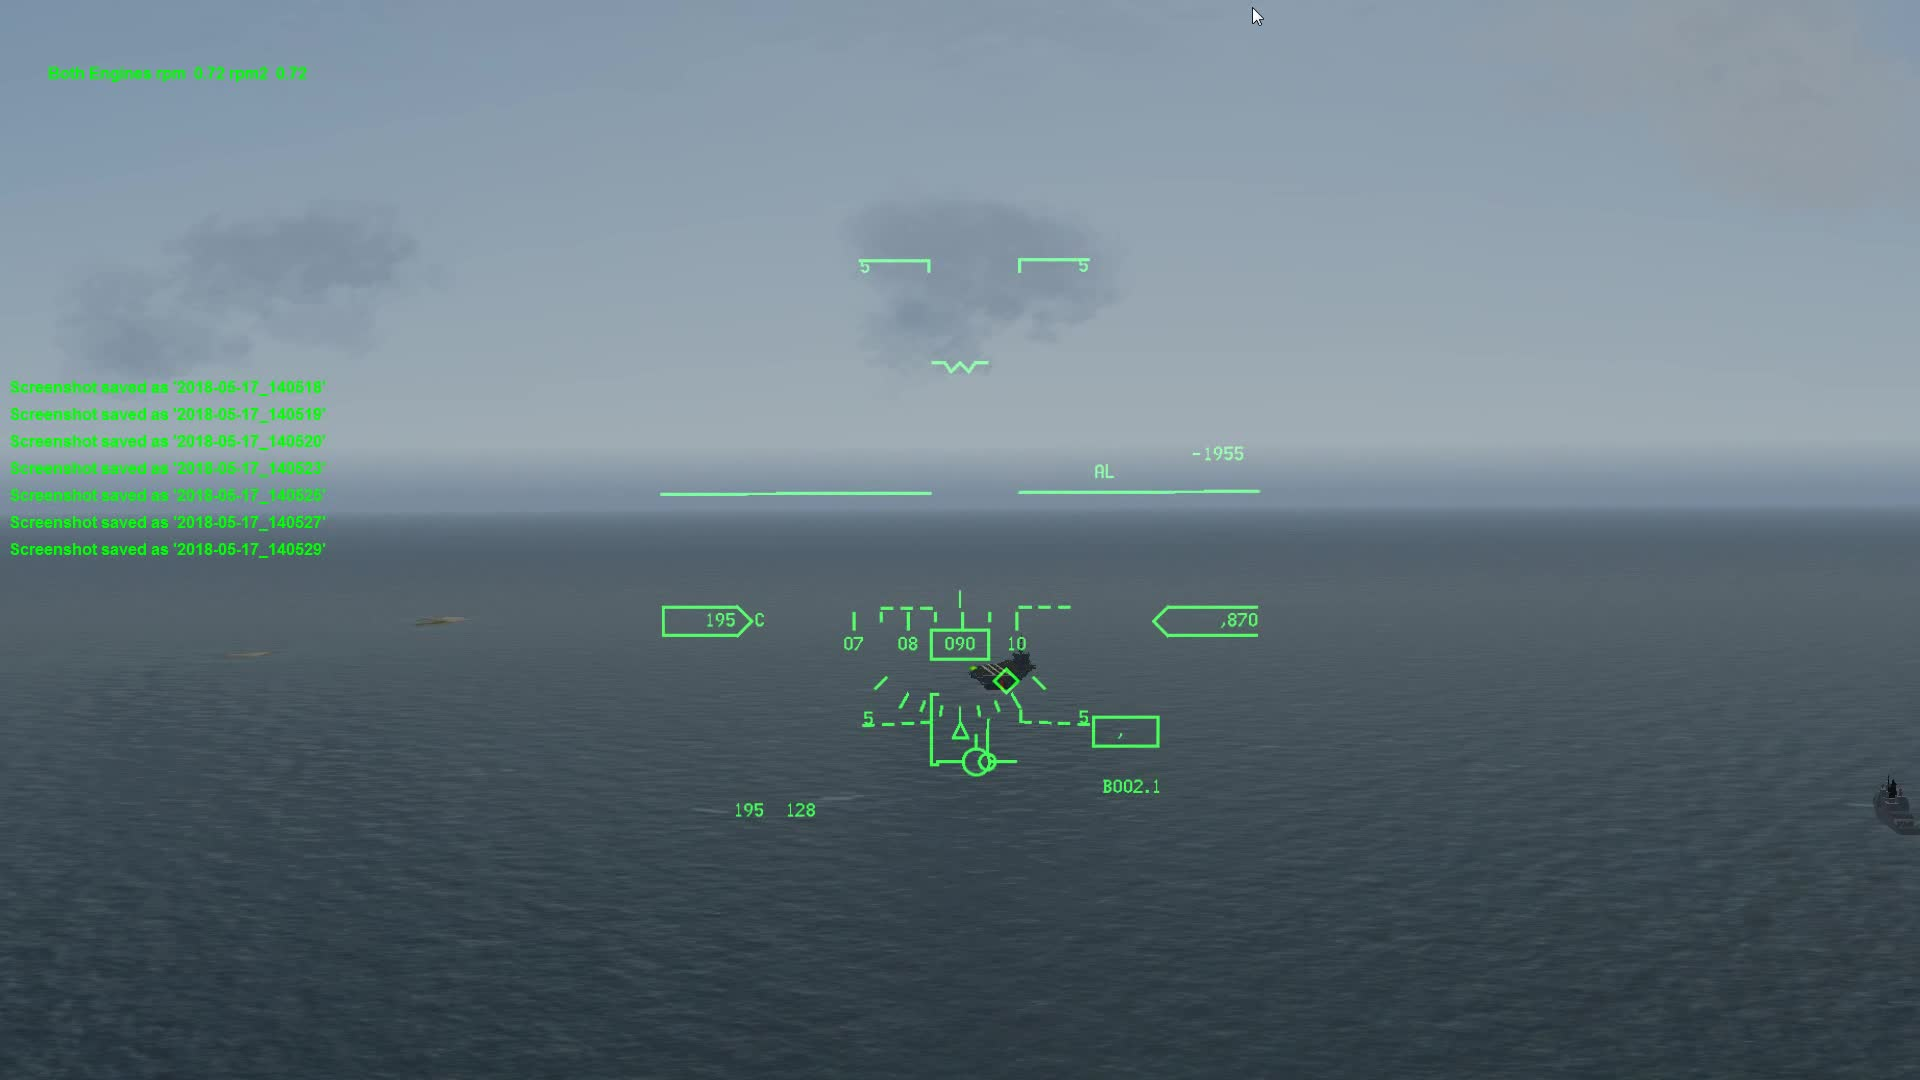speed vector: (934, 744, 1022, 781)
